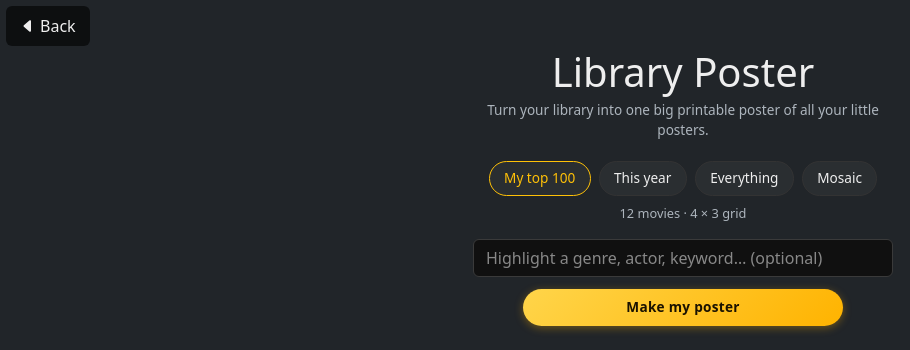
it: LibraryPoster › switching modes recomputes the selection and grid label
Click the button "This year" at (643,178), box 599,161 -> 687,196
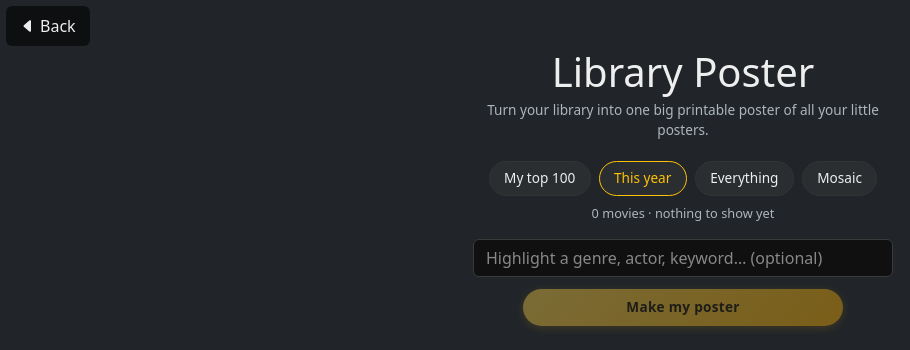
Expected: the text "0 movies" is shown, 592,204 -> 655,222
Expected: the button with class "generate-btn" is disabled, 523,289 -> 843,326
